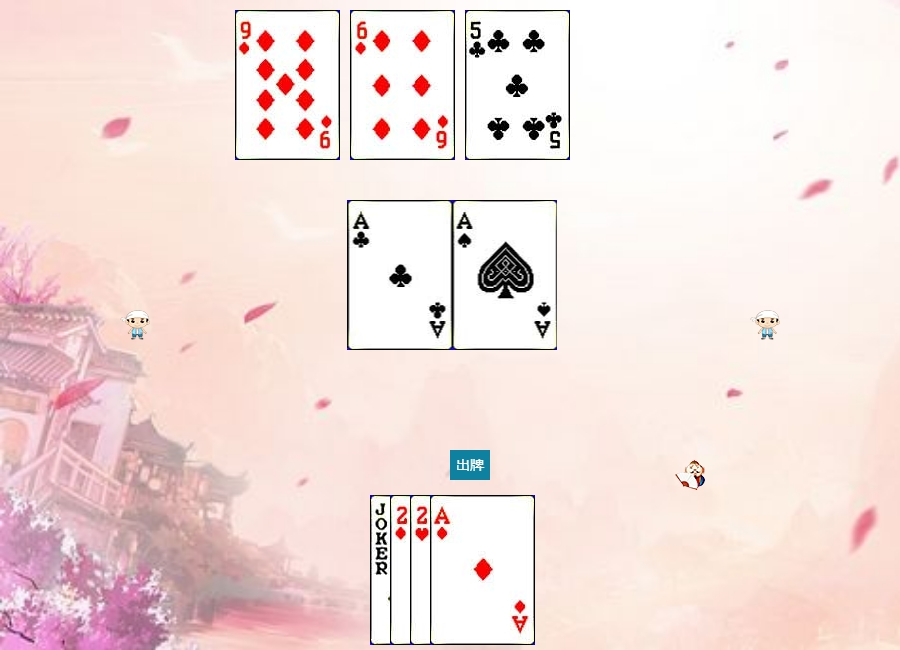14~1: (430, 495, 535, 645)
14~2: (348, 200, 453, 350)
14~4: (453, 200, 558, 350)
15~1: (390, 495, 495, 645)
15~3: (410, 495, 515, 645)
17~3: (370, 495, 475, 645)
5~2: (465, 10, 570, 160)
6~1: (350, 10, 455, 160)
9~1: (235, 10, 340, 160)
